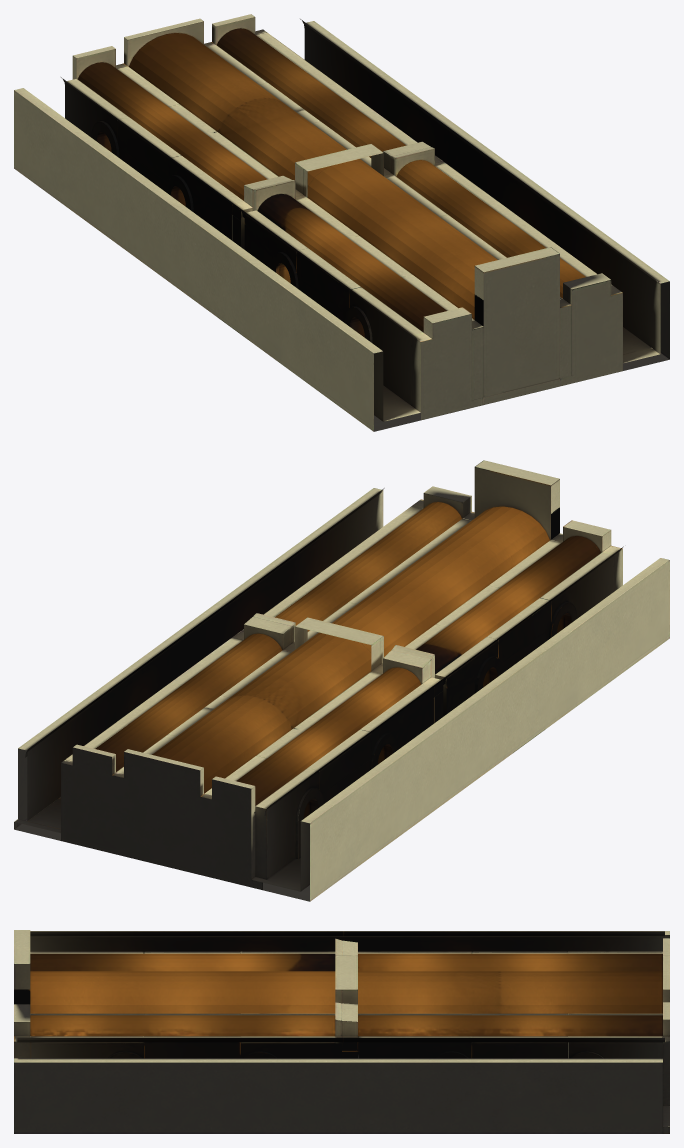
File: tutBUILD.glb
The picture shows the model from 3 angles, top to bottom: view 1: azimuth 30°, elevation 25°; view 2: azimuth 150°, elevation 25°; view 3: azimuth 270°, elevation 25°; orthographic projection. The views are drawn at different scales.
Visible parts, largest first — view 1: coltut_Mesh; view 2: coltut_Mesh; view 3: coltut_Mesh.
Part boxes in pixels (x1,y1,x2,y2): coltut_Mesh: (14,14,669,431); coltut_Mesh: (14,460,669,901); coltut_Mesh: (14,930,669,1133).
Size of the model in its own units: 64.34 by 27.57 by 135.
1 material, 1 textured.
